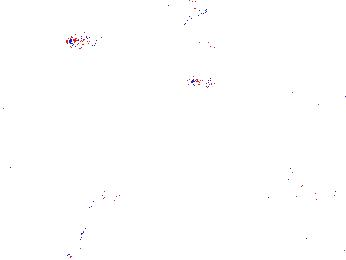X-ray fish: (155, 1, 209, 28)
glassfish: (71, 175, 131, 252), (205, 118, 292, 153)
red belly glassfish: (188, 71, 241, 91), (199, 30, 233, 57), (66, 31, 106, 50)
